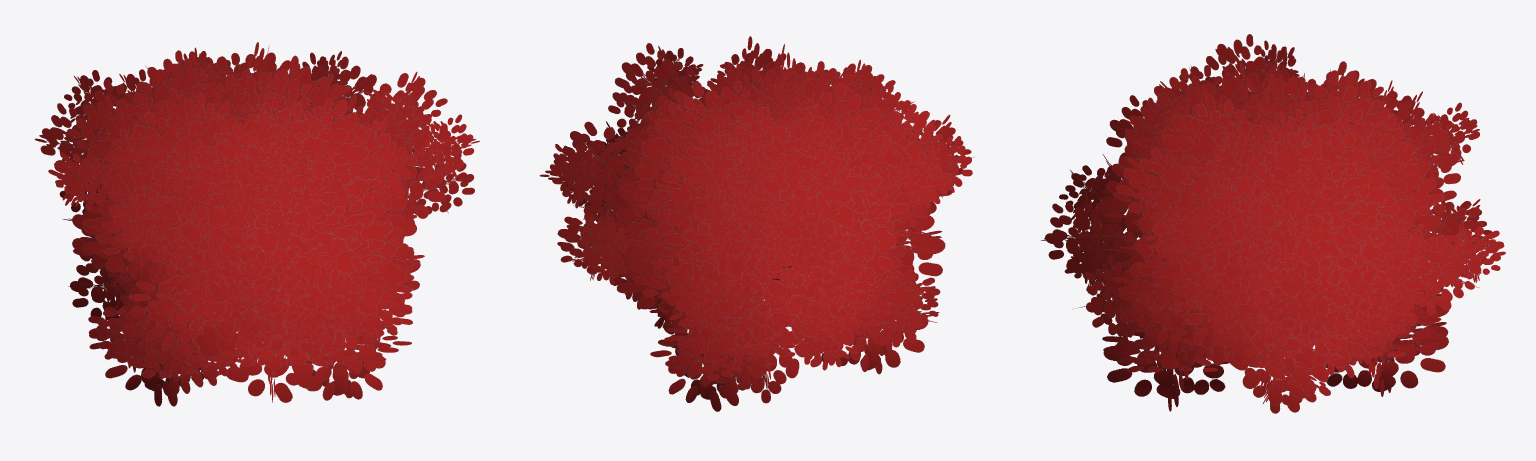
The model's file is Bush_Common.glb.
3 views of the same model, side by side, from view 1: azimuth 30°, elevation 25°; view 2: azimuth 150°, elevation 25°; view 3: azimuth 270°, elevation 25° (orthographic). The views are drawn at different scales.
Visible parts, largest first — view 1: Bush_Common; view 2: Bush_Common; view 3: Bush_Common.
Part boxes in pixels (box(x1,y1,x2,y2)): Bush_Common: box(34, 42, 479, 406); Bush_Common: box(539, 36, 974, 411); Bush_Common: box(1041, 34, 1505, 413).
Bounding box in the file's own units: 1.91 × 1.58 × 1.97.
1 material, 1 textured.
